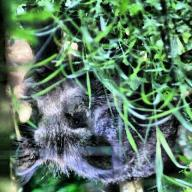boar: (18, 37, 180, 177)
